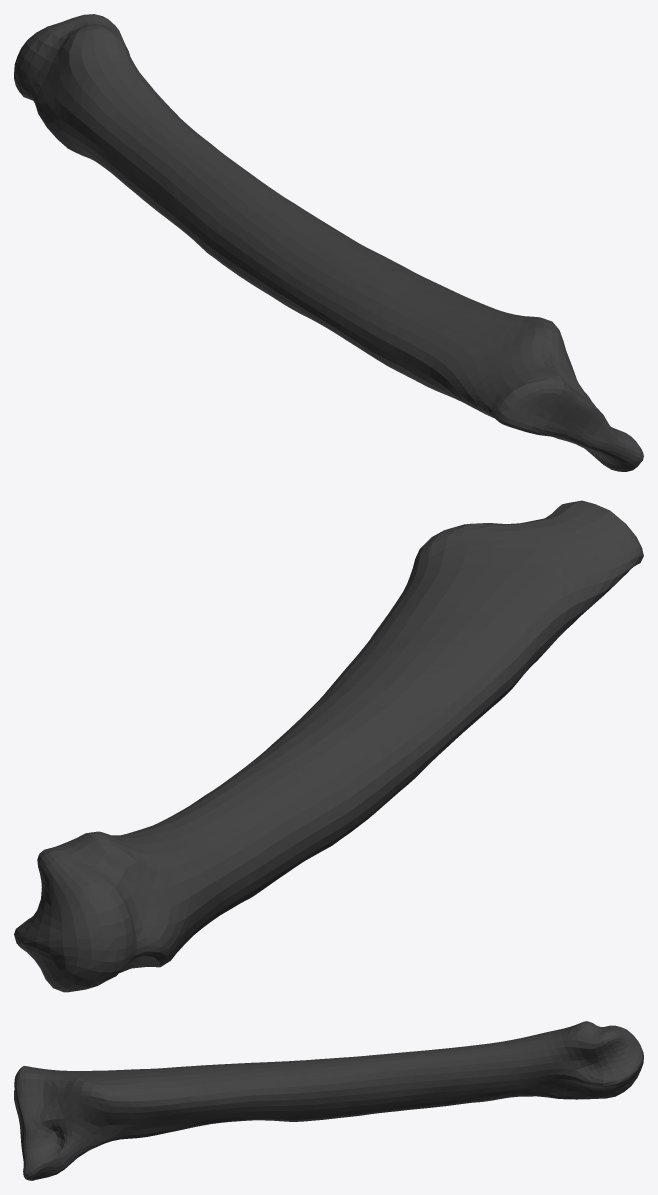
Rendered from Metatarsus_modified3_L.glb.
3 views of the same model, one above another, from view 1: azimuth 30°, elevation 25°; view 2: azimuth 150°, elevation 25°; view 3: azimuth 270°, elevation 25° (orthographic). The views are drawn at different scales.
Parts seen in each view (by area): view 1: Metatarsus_modified3_L; view 2: Metatarsus_modified3_L; view 3: Metatarsus_modified3_L.
Part boxes in pixels (left/top/right/bottom): Metatarsus_modified3_L: left=14, top=14, right=643, bottom=471; Metatarsus_modified3_L: left=14, top=500, right=643, bottom=992; Metatarsus_modified3_L: left=14, top=1021, right=643, bottom=1180.
Size of the model in its own units: 0.0267 by 0.0234 by 0.1138.
Materials: 1 (1 with a texture image).
